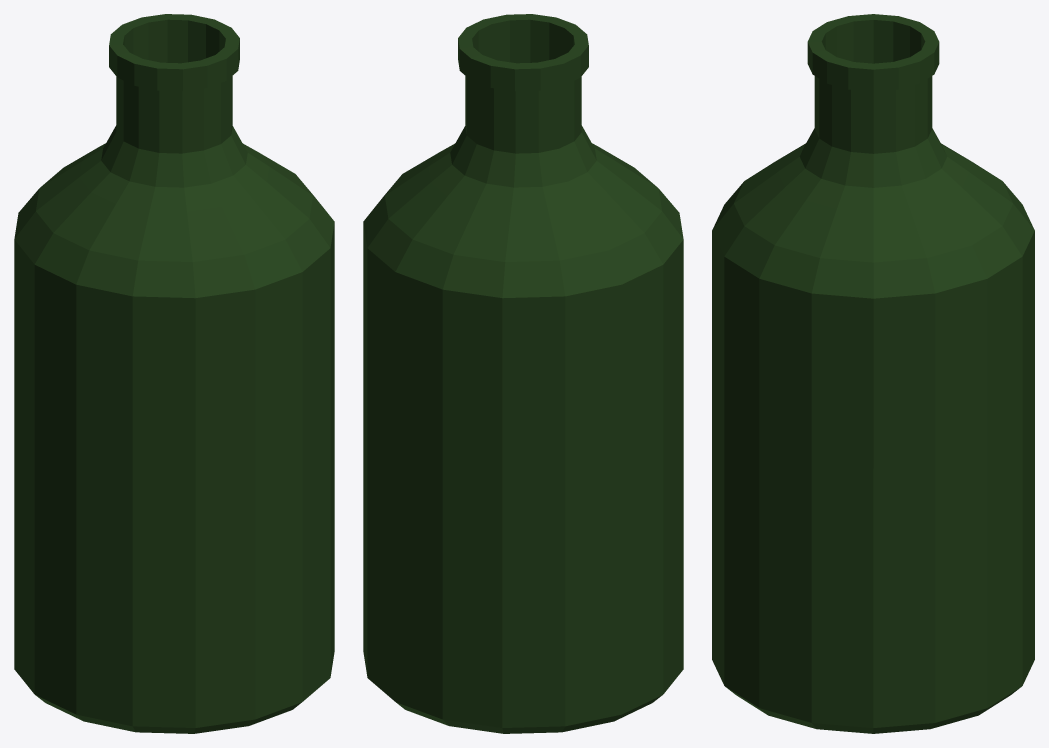
File: BotellaAR2.fbx
3 renders of one model, left to right at view 1: azimuth 30°, elevation 25°; view 2: azimuth 150°, elevation 25°; view 3: azimuth 270°, elevation 25°, orthographic.
Parts seen in each view (by area): view 1: Cylinder; view 2: Cylinder; view 3: Cylinder.
Boxes of the visible parts, x1,y1,x2,y2 form: Cylinder: [14, 14, 334, 733]; Cylinder: [363, 14, 683, 733]; Cylinder: [712, 14, 1034, 733].
Size of the model in its own units: 4.36 by 9.39 by 4.36.
